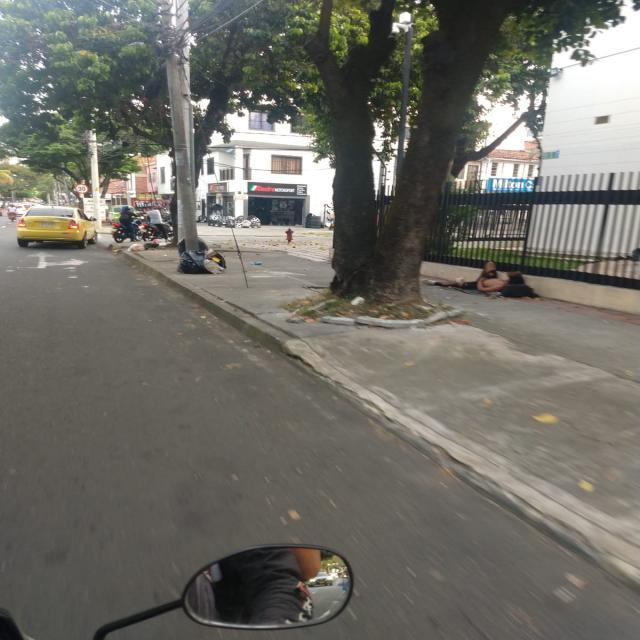Garbage_Bag: (174, 248, 224, 274)
